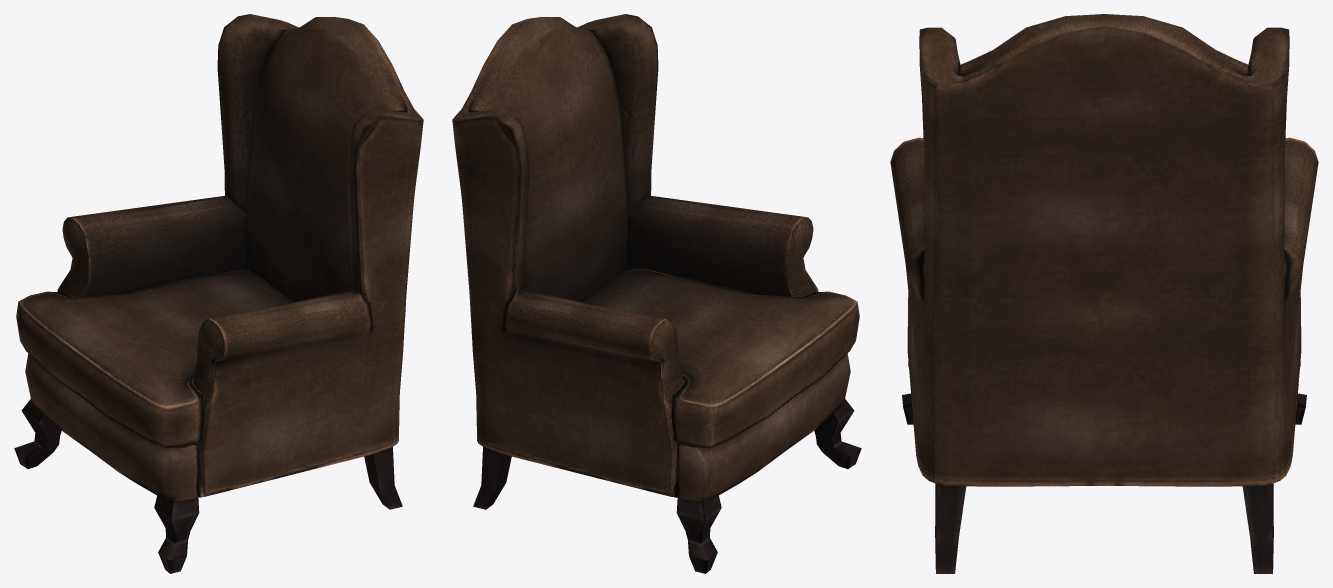
The model's file is Sofa01.FBX.
3 views of the same model, side by side, from view 1: azimuth 30°, elevation 25°; view 2: azimuth 150°, elevation 25°; view 3: azimuth 270°, elevation 25° (orthographic). The views are drawn at different scales.
Parts seen in each view (by area): view 1: Sofa01; view 2: Sofa01; view 3: Sofa01.
Part boxes in pixels (x1,y1,x2,y2): Sofa01: (14, 14, 423, 573); Sofa01: (452, 14, 861, 573); Sofa01: (890, 14, 1318, 573).
Bounding box in the file's own units: 117 × 169 × 115.
